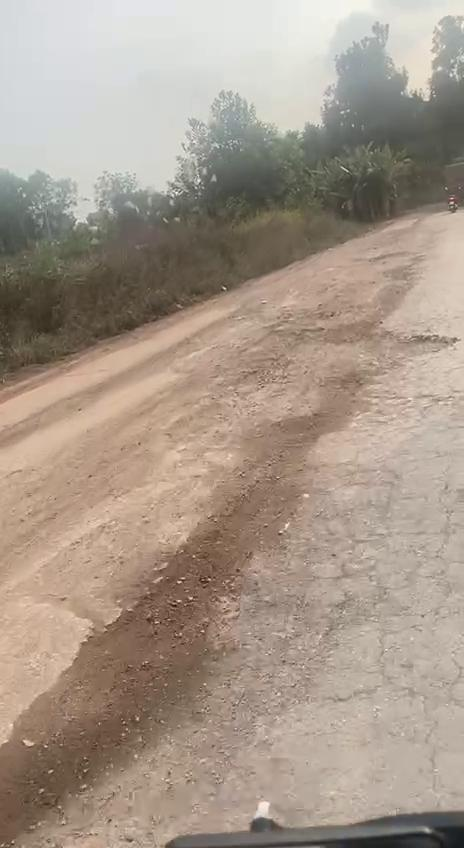pothole: (0, 495, 282, 820), (278, 404, 367, 442), (388, 331, 458, 364)
